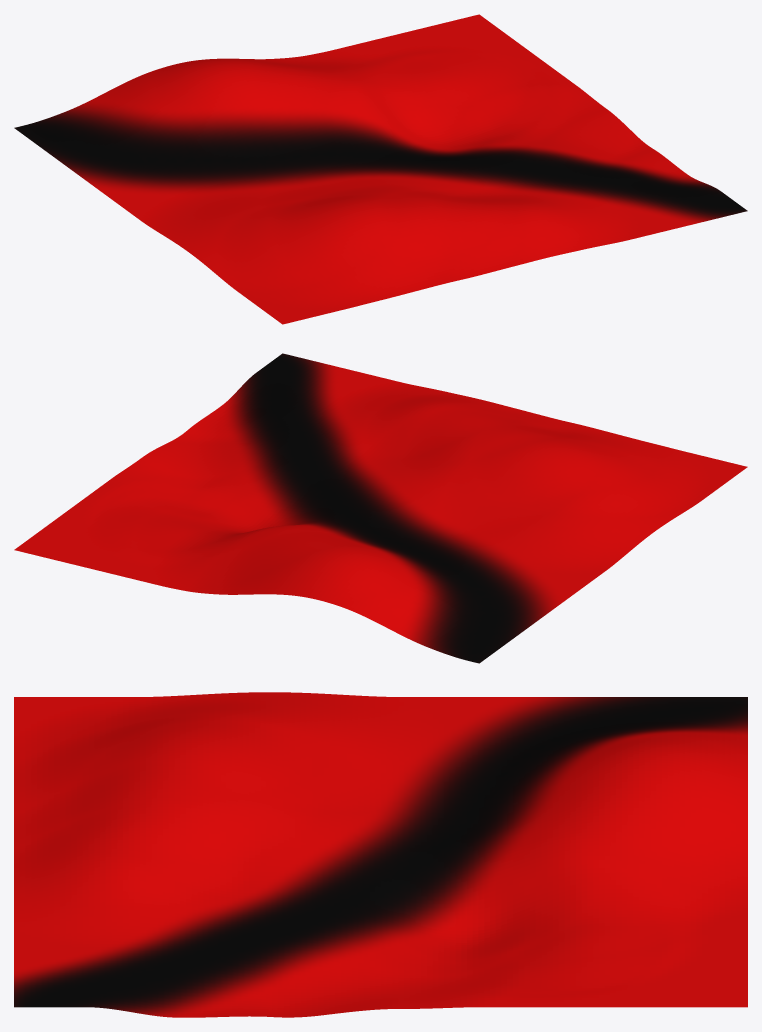
Rendered from landscape.glb.
3 renders of one model, top to bottom at view 1: azimuth 30°, elevation 25°; view 2: azimuth 150°, elevation 25°; view 3: azimuth 270°, elevation 25°, orthographic. The views are drawn at different scales.
Visible parts, largest first — view 1: Plane; view 2: Plane; view 3: Plane.
Boxes of the visible parts, <box> form: Plane: <box>14,14,747,324</box>; Plane: <box>14,353,747,663</box>; Plane: <box>14,692,747,1017</box>.
Bounding box in the file's own units: 32 × 3.78 × 32.
